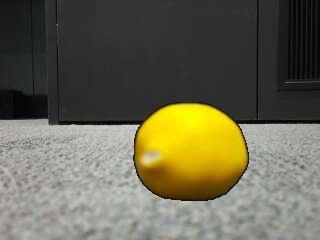lemon: (135, 105, 247, 203)
